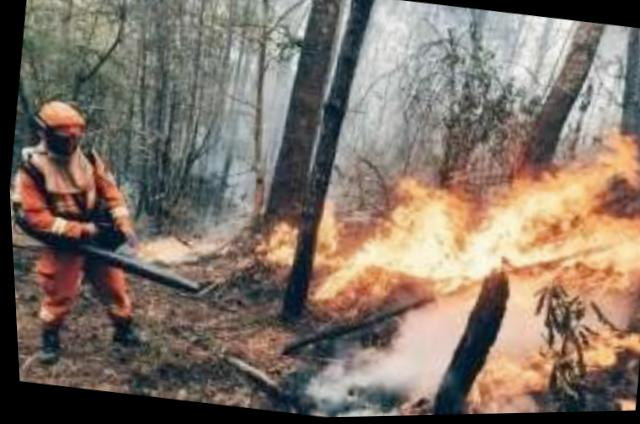fire: (288, 96, 639, 417)
